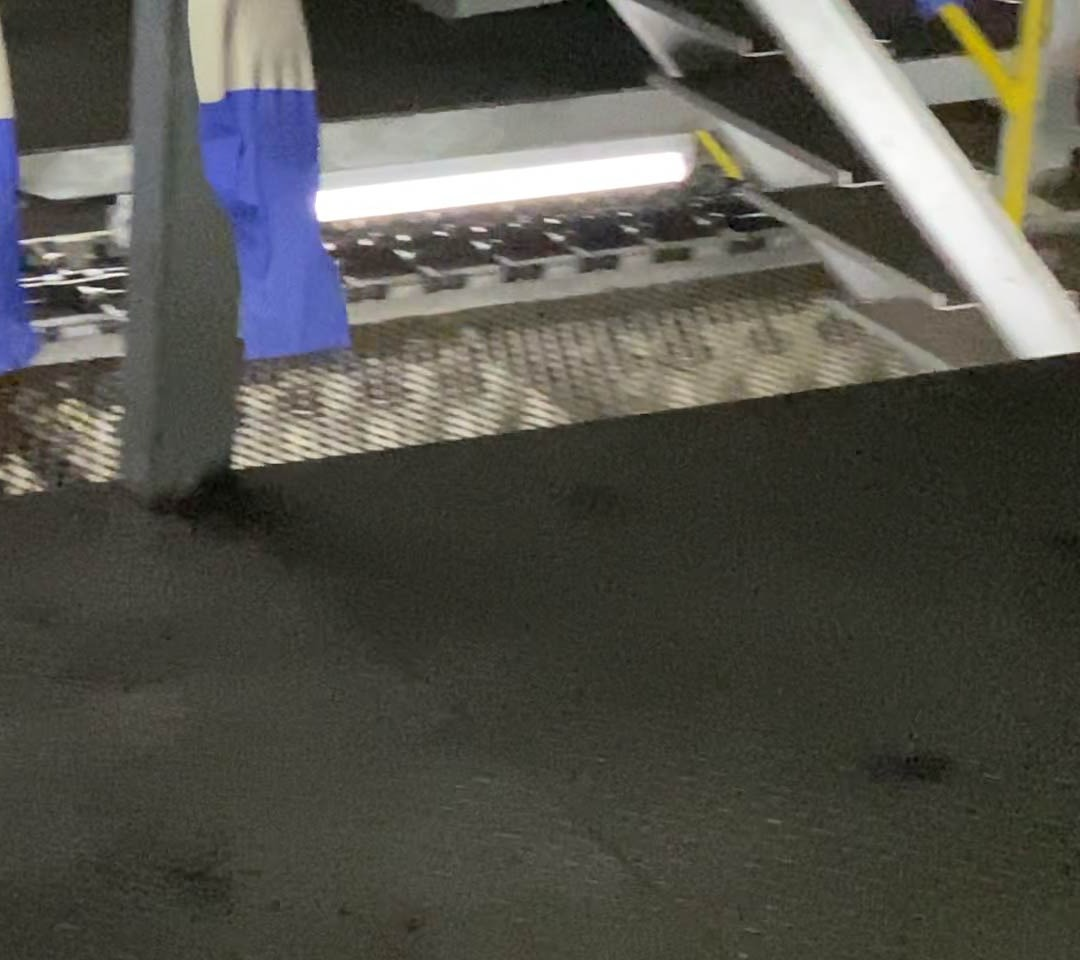glove: (194, 84, 359, 360)
